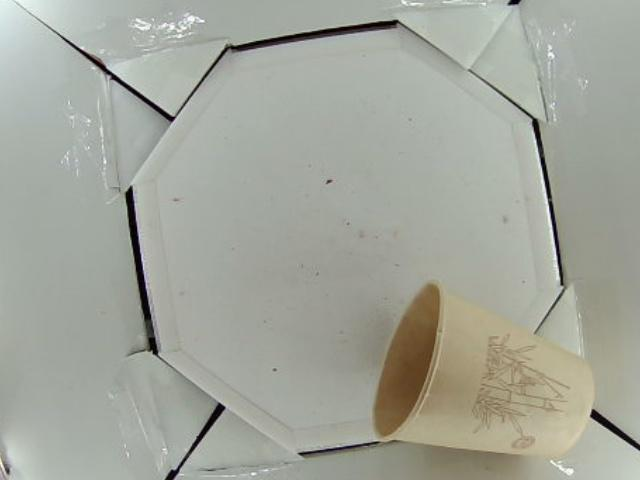Cup: (372, 281, 594, 459)
